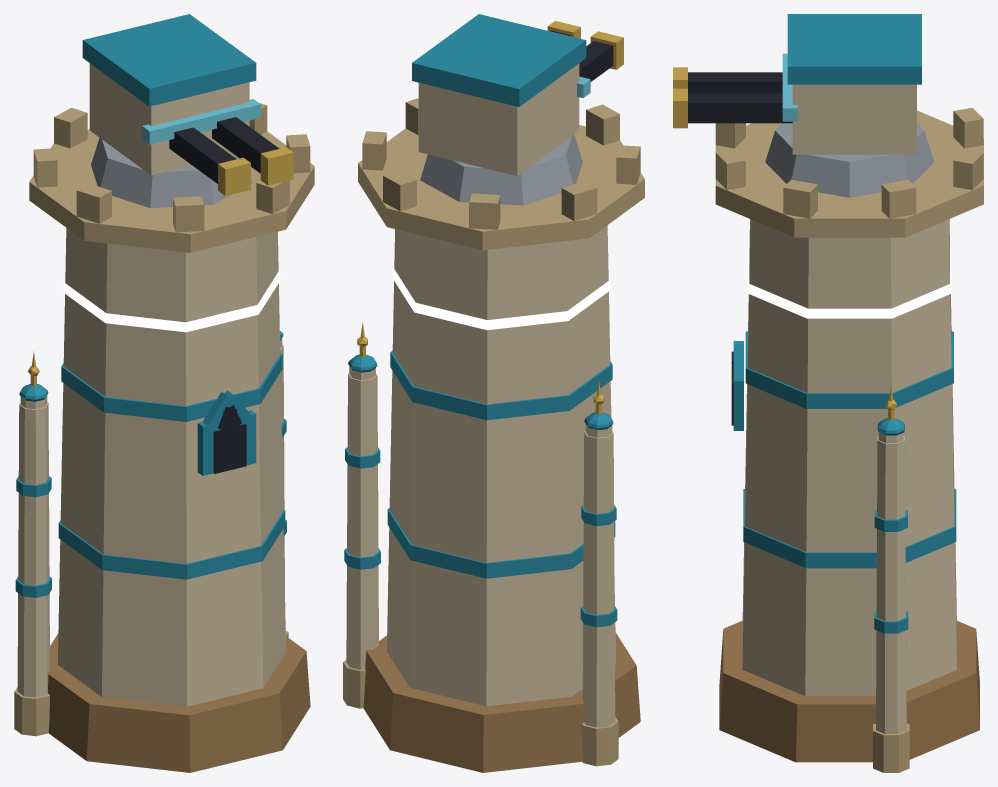
File: tower_t4.glb
The picture shows the model from 3 angles, left to right: view 1: azimuth 30°, elevation 25°; view 2: azimuth 150°, elevation 25°; view 3: azimuth 270°, elevation 25°; orthographic projection.
Parts seen in each view (by area): view 1: body, part_turret, glow; view 2: body, part_turret, glow; view 3: body, part_turret, glow.
Boxes of the visible parts, left/top/right/bottom form: body: left=14, top=103, right=314, bottom=772; part_turret: left=82, top=14, right=293, bottom=208; glow: left=63, top=270, right=280, bottom=332; body: left=343, top=98, right=644, bottom=772; part_turret: left=412, top=14, right=623, bottom=205; glow: left=392, top=268, right=610, bottom=330; body: left=715, top=107, right=983, bottom=772; part_turret: left=673, top=14, right=934, bottom=197; glow: left=747, top=248, right=951, bottom=318.
Bounding box in the file's own units: 1.5 × 3.55 × 1.5.
